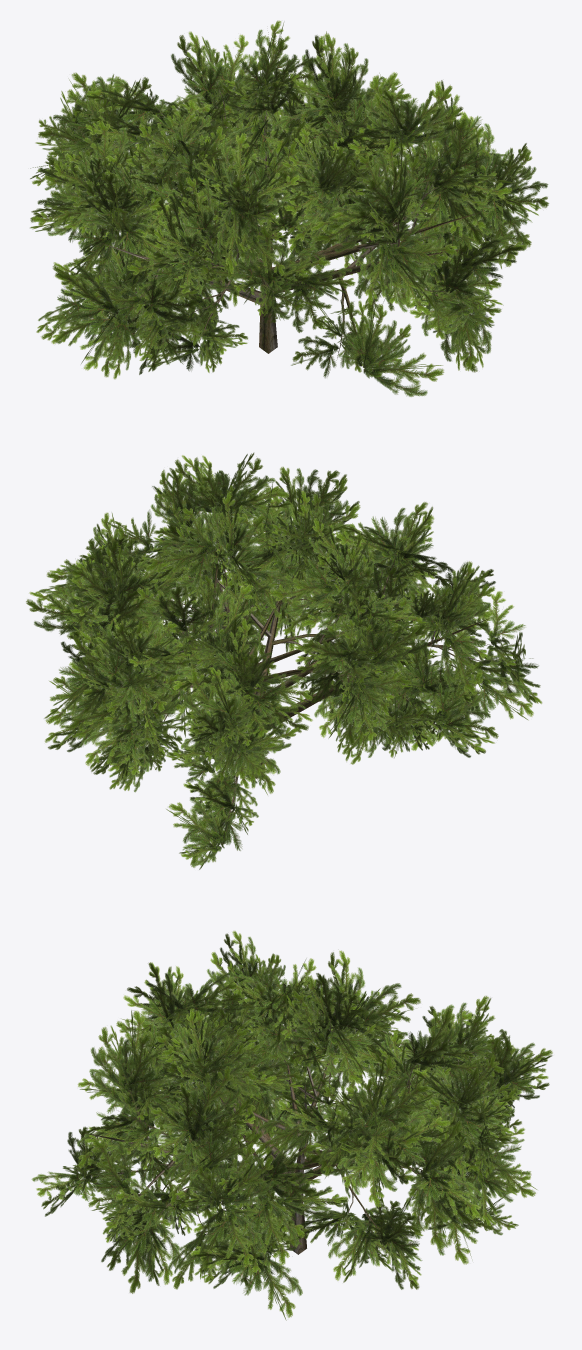
Rendered from tree7.glb.
3 renders of one model, top to bottom at view 1: azimuth 30°, elevation 25°; view 2: azimuth 150°, elevation 25°; view 3: azimuth 270°, elevation 25°, orthographic. The views are drawn at different scales.
Visible parts, largest first — view 1: Tree EZTree1.Bush006; view 2: Tree EZTree1.Bush006; view 3: Tree EZTree1.Bush006.
Part boxes in pixels (<box>): Tree EZTree1.Bush006: <box>30,20,548,396</box>; Tree EZTree1.Bush006: <box>26,453,542,869</box>; Tree EZTree1.Bush006: <box>31,931,552,1320</box>.
Size of the model in its own units: 33.17 by 20.84 by 31.42.
2 materials, 2 textured.
